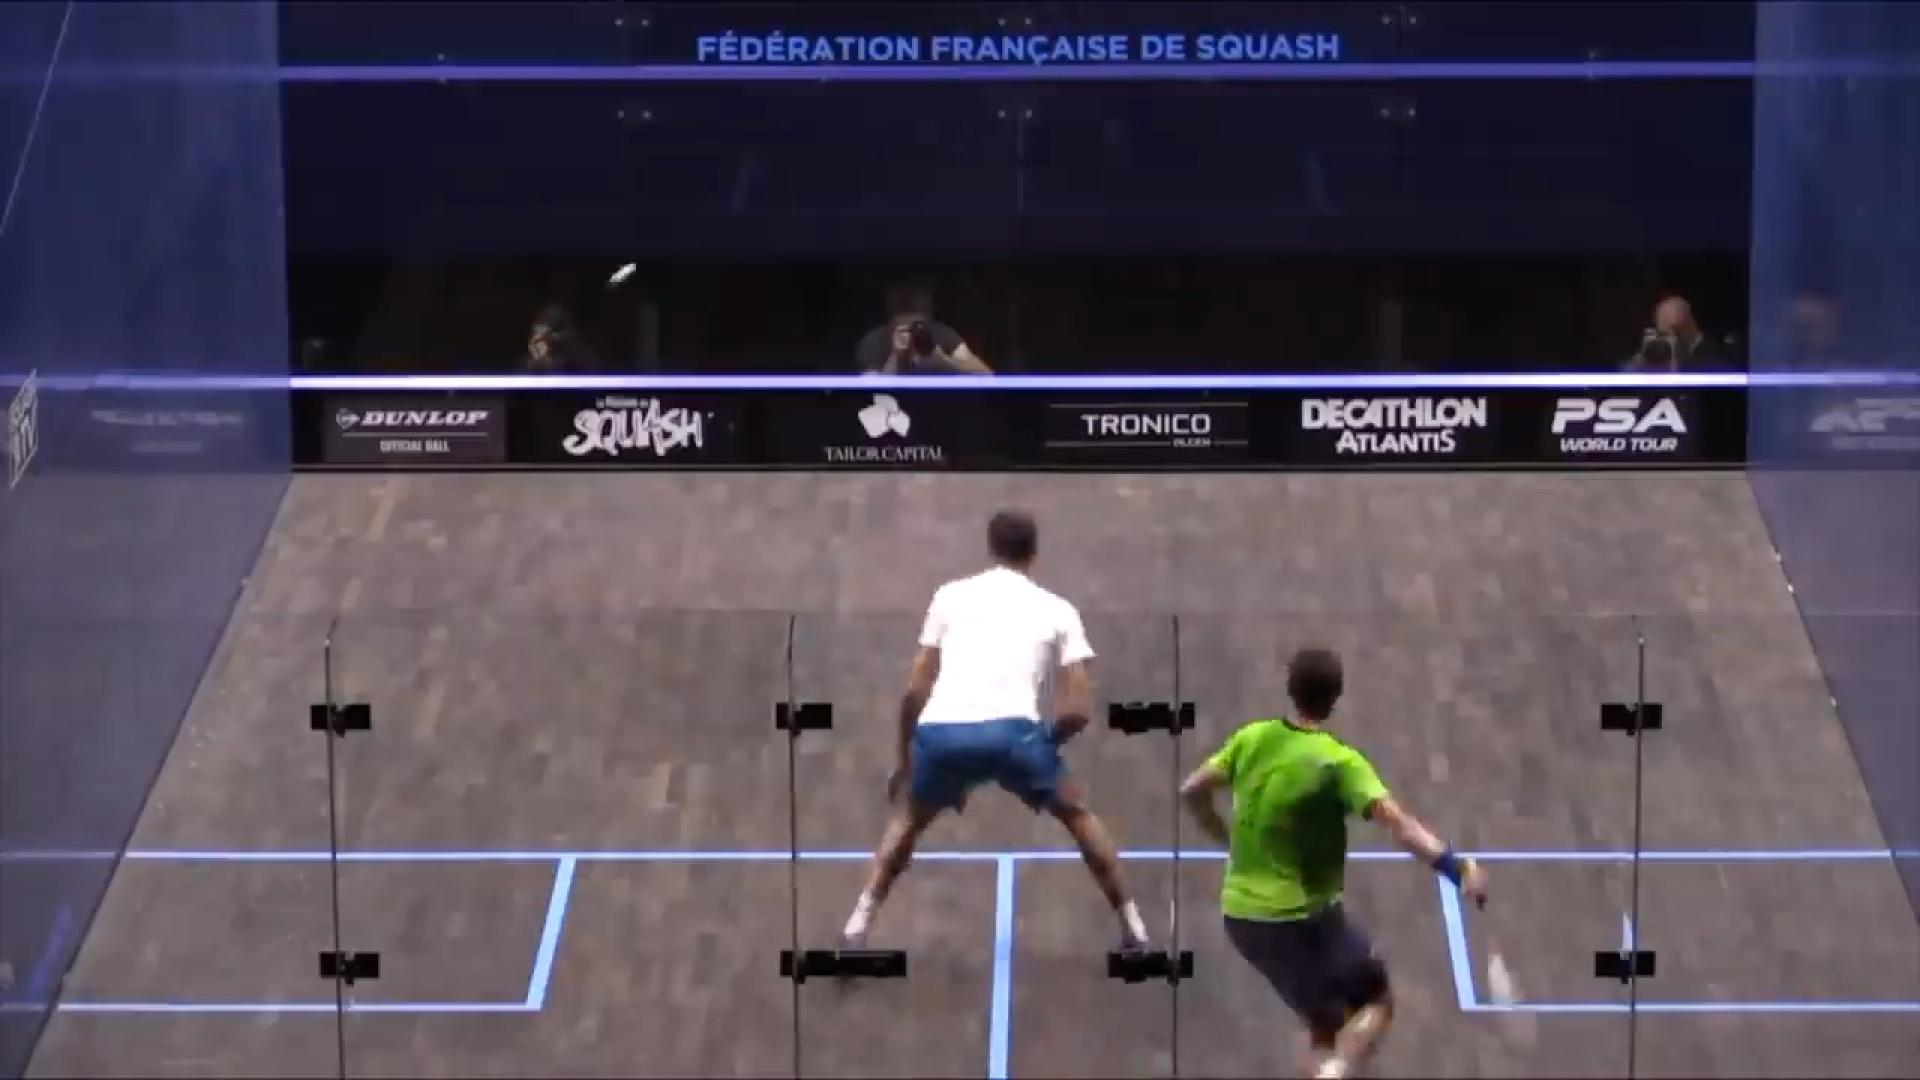Squash-Ball: (605, 257, 645, 302)
